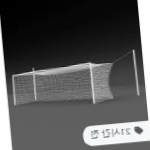goals: (10, 60, 117, 109)
